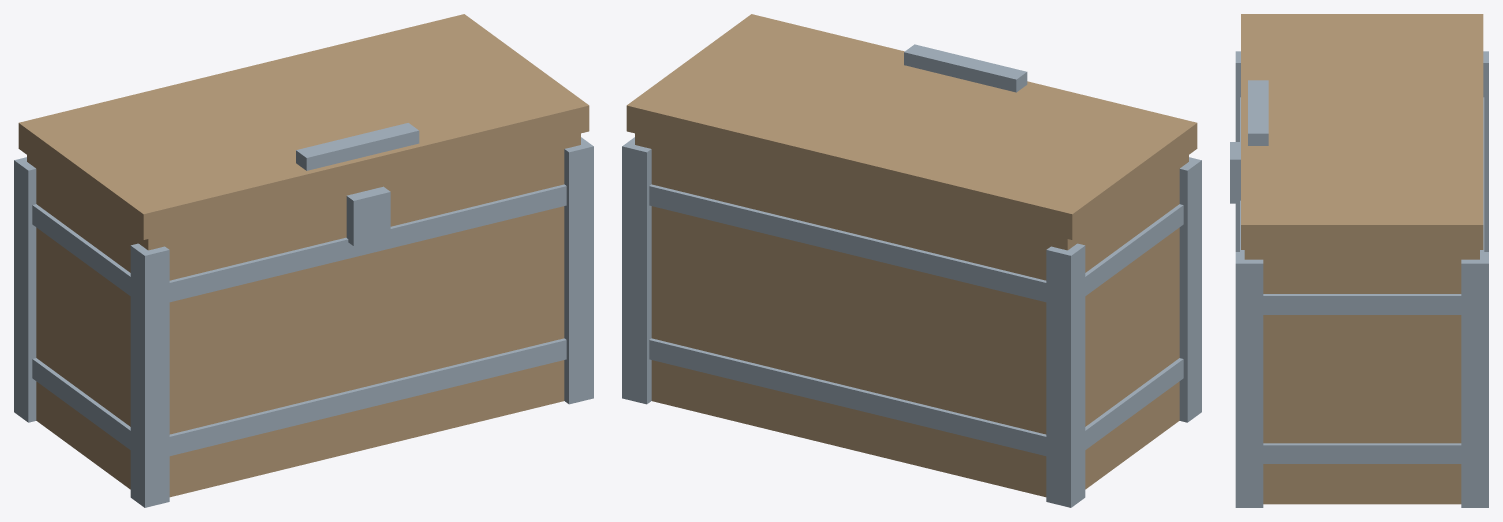
The model's file is wipe-day-survival-island-large-wooden-storage-box-321734f9__27462.glb.
The picture shows the model from 3 angles, left to right: view 1: azimuth 30°, elevation 25°; view 2: azimuth 150°, elevation 25°; view 3: azimuth 270°, elevation 25°; orthographic projection. The views are drawn at different scales.
Parts seen in each view (by area): view 1: large-wooden-storage-box, lid/wood, lid/metal; view 2: large-wooden-storage-box, lid/wood, lid/metal; view 3: large-wooden-storage-box, lid/wood, lid/metal.
Part boxes in pixels (x1,y1,x2,y2): large-wooden-storage-box: (14, 133, 593, 507); lid/wood: (18, 14, 589, 239); lid/metal: (296, 123, 419, 170); large-wooden-storage-box: (622, 133, 1201, 507); lid/wood: (626, 14, 1197, 239); lid/metal: (904, 44, 1027, 92); large-wooden-storage-box: (1230, 51, 1488, 507); lid/wood: (1241, 14, 1483, 249); lid/metal: (1248, 80, 1268, 145).
Bounding box in the file's own units: 1.45 × 0.94 × 0.7481.
